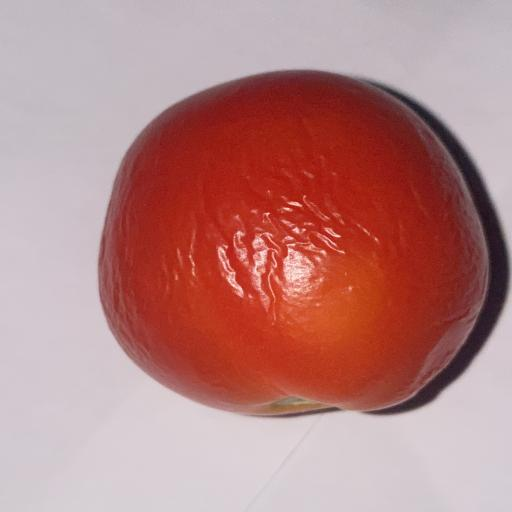spoiled: (100, 71, 488, 415)
